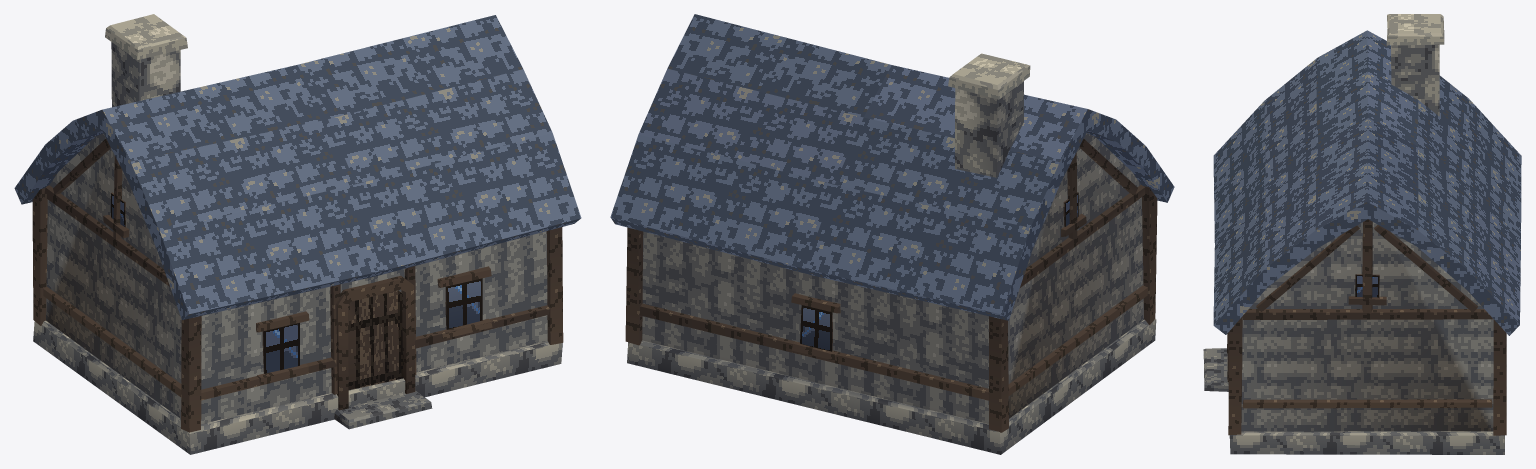
The model's file is vlg.cottage.glb.
3 renders of one model, left to right at view 1: azimuth 30°, elevation 25°; view 2: azimuth 150°, elevation 25°; view 3: azimuth 270°, elevation 25°, orthographic. The views are drawn at different scales.
Parts seen in each view (by area): view 1: kit_roof, kit_walls, kit_stonework, kit_fittings, kit_frame; view 2: kit_roof, kit_walls, kit_stonework, kit_frame, kit_fittings; view 3: kit_roof, kit_walls, kit_frame, kit_stonework, kit_fittings.
Part boxes in pixels (left/top/right/bottom): kit_roof: left=14, top=15, right=581, bottom=319; kit_walls: left=46, top=133, right=547, bottom=424; kit_stonework: left=33, top=14, right=562, bottom=454; kit_fittings: left=103, top=192, right=492, bottom=429; kit_frame: left=32, top=138, right=563, bottom=432; kit_roof: left=610, top=14, right=1174, bottom=320; kit_walls: left=642, top=133, right=1143, bottom=423; kit_stonework: left=627, top=53, right=1156, bottom=454; kit_frame: left=625, top=138, right=1157, bottom=432; kit_fittings: left=791, top=192, right=1086, bottom=360; kit_roof: left=1213, top=30, right=1521, bottom=335; kit_walls: left=1241, top=222, right=1493, bottom=431; kit_frame: left=1228, top=219, right=1506, bottom=435; kit_stonework: left=1229, top=14, right=1504, bottom=454; kit_fittings: left=1203, top=274, right=1386, bottom=391.
Size of the model in its own units: 7.57 by 6.13 by 5.95.
Materials: 8 (8 with a texture image).
